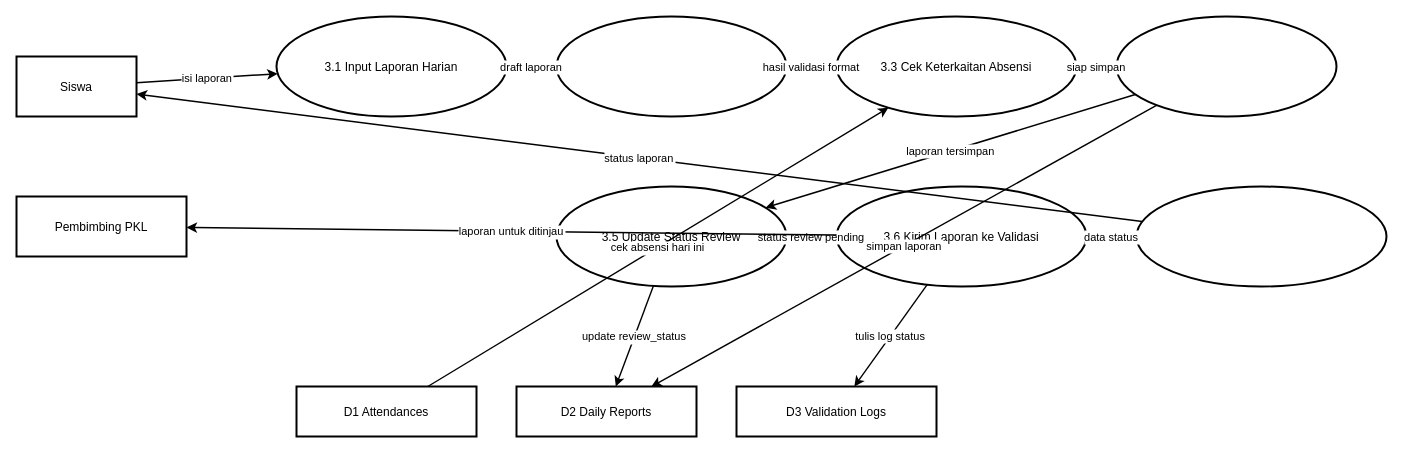
This 1403x453 diagram has some shape labels left out. The centre of each missing label's shape, as x and y in pixels:
"3.2 Validasi Format Isian" belongs at point 671,66.
"3.4 Simpan Laporan" belongs at point 1226,66.
"3.7 Tampilkan Status Laporan" belongs at point 1261,236.
